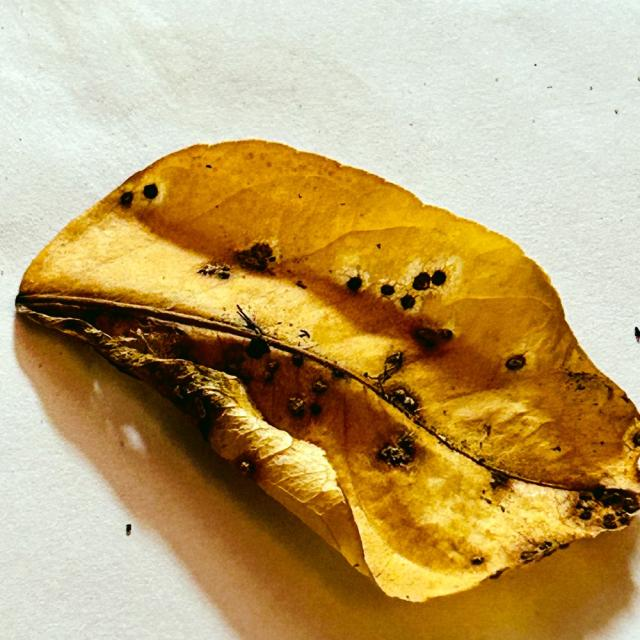DryLeaf_Lemon: (16, 140, 639, 601)
